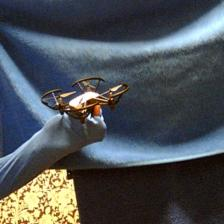drone: (41, 74, 130, 120)
